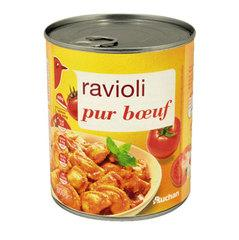metal: (45, 14, 196, 218)
